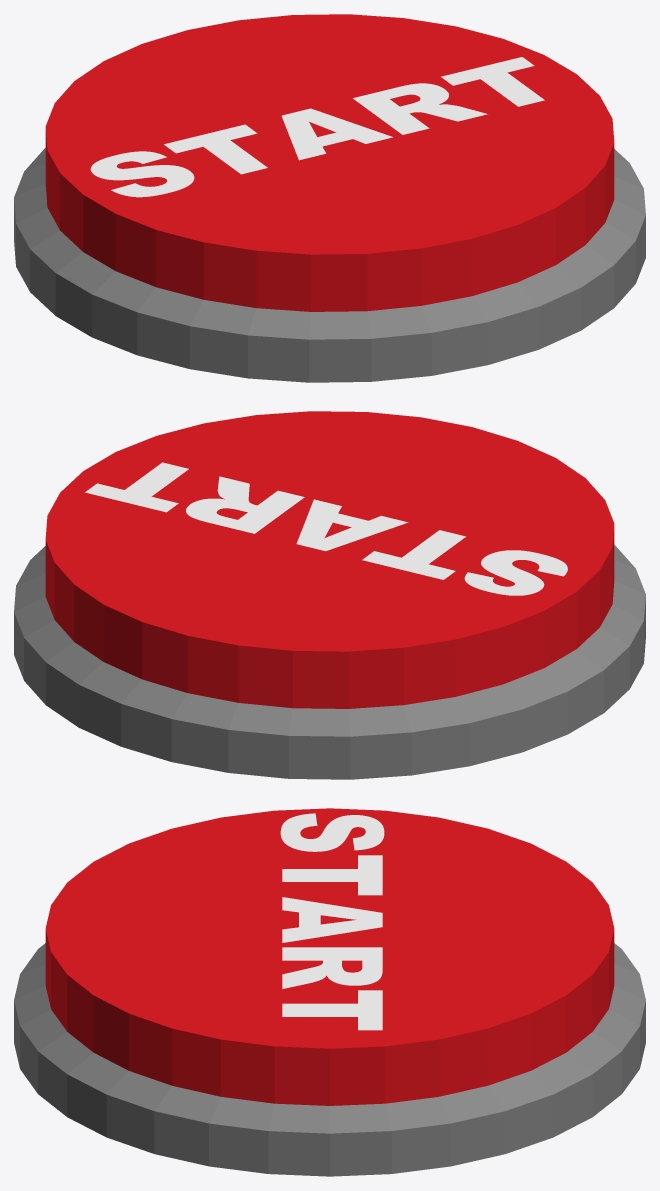
File: start-button.glb
3 renders of one model, top to bottom at view 1: azimuth 30°, elevation 25°; view 2: azimuth 150°, elevation 25°; view 3: azimuth 270°, elevation 25°, orthographic.
Parts seen in each view (by area): view 1: Button_Circle, Text; view 2: Button_Circle, Text; view 3: Button_Circle, Text.
Part boxes in pixels (<box>): Button_Circle: <box>14,14,645,382</box>; Text: <box>90,57,544,197</box>; Button_Circle: <box>14,411,645,779</box>; Text: <box>85,462,567,595</box>; Button_Circle: <box>14,808,645,1176</box>; Text: <box>280,813,384,1030</box>.
Size of the model in its own units: 6 by 1.25 by 6.
